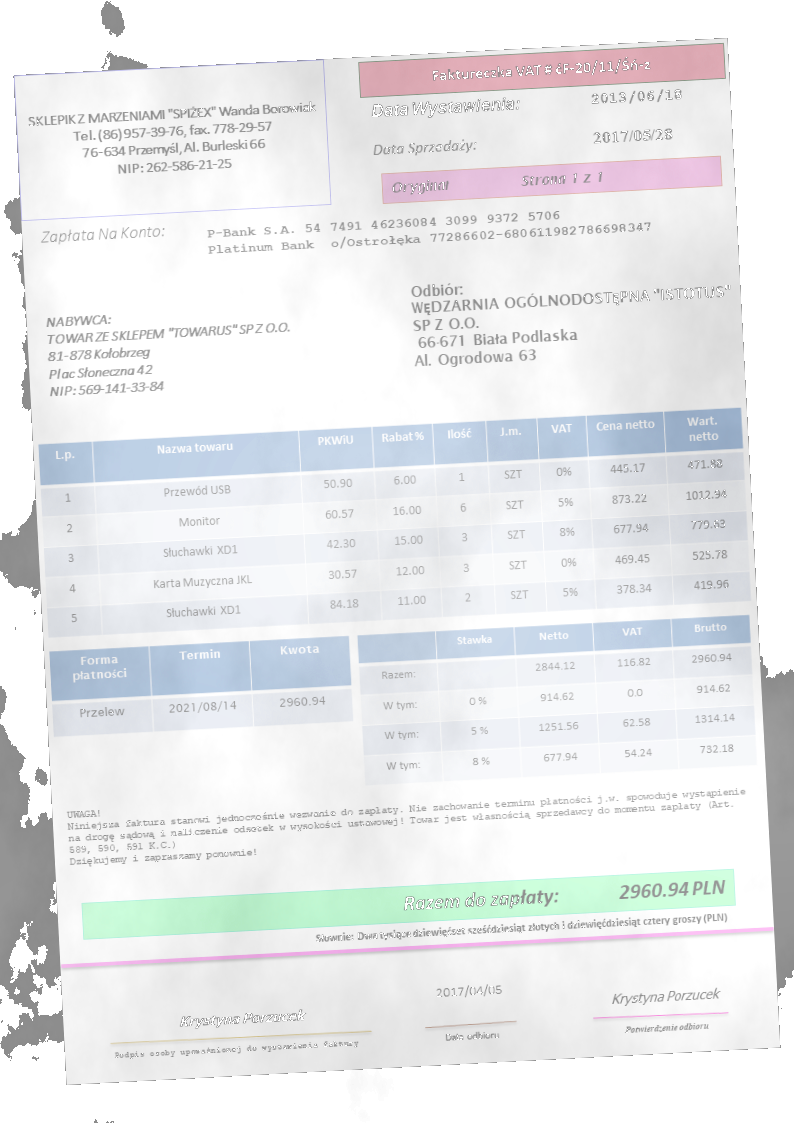Table: (37, 407, 753, 640), (356, 614, 760, 786), (47, 635, 354, 739)
TextBox: (63, 773, 750, 871), (409, 267, 737, 372), (204, 202, 656, 260), (25, 95, 320, 183), (42, 302, 298, 401), (313, 909, 730, 948), (400, 876, 728, 915), (112, 1035, 360, 1064), (430, 55, 654, 85), (391, 167, 608, 196), (369, 93, 523, 123), (177, 1007, 309, 1033), (37, 222, 168, 248), (609, 984, 723, 1010), (371, 137, 478, 160), (589, 86, 684, 109), (433, 978, 505, 1003), (592, 126, 673, 147), (623, 1020, 712, 1037), (443, 1027, 502, 1044)
